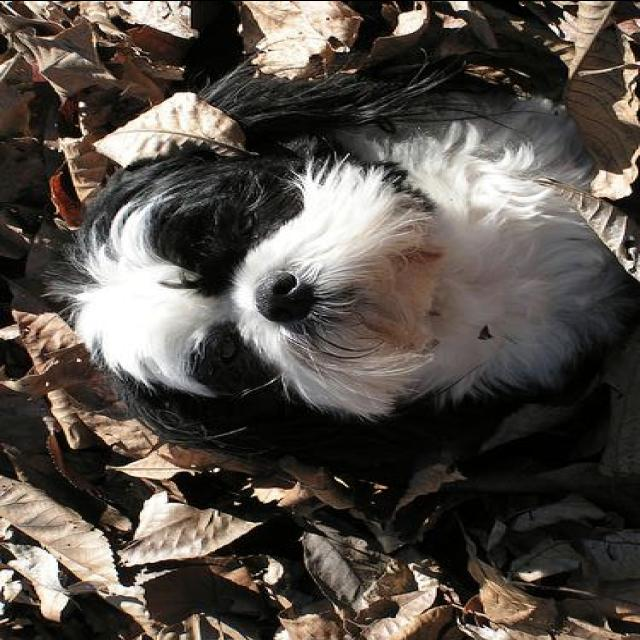shih_tzu: (44, 56, 626, 460)
